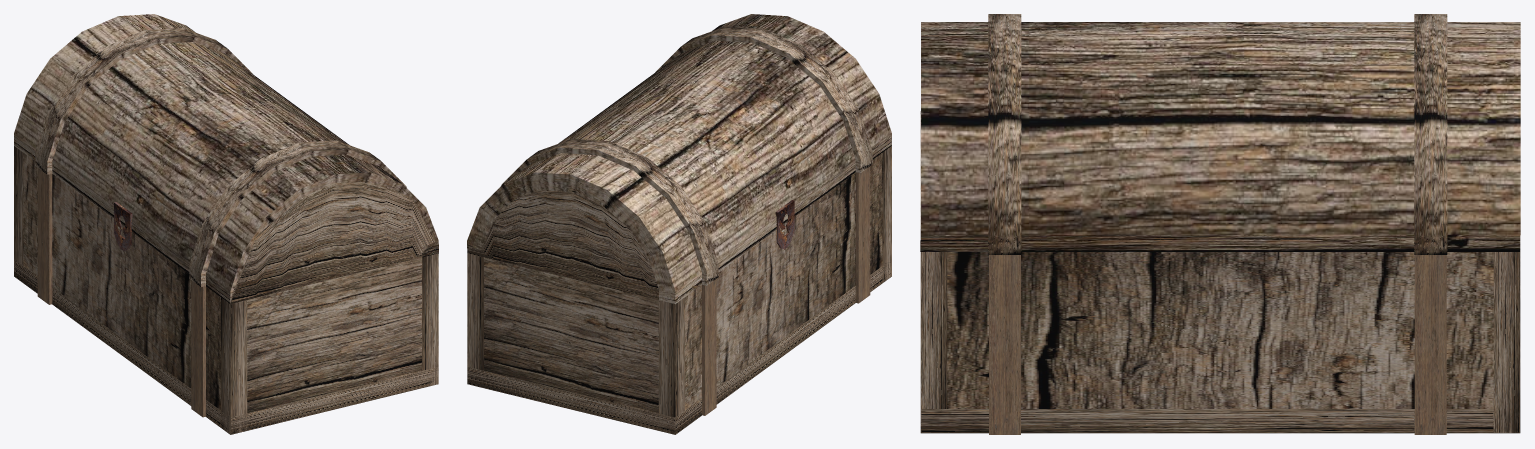
Rendered from Chest.FBX.
The picture shows the model from 3 angles, left to right: view 1: azimuth 30°, elevation 25°; view 2: azimuth 150°, elevation 25°; view 3: azimuth 270°, elevation 25°; orthographic projection. The views are drawn at different scales.
Parts seen in each view (by area): view 1: Tube001, Box001, Tube003, Tube002, Box003, Box002, Box004; view 2: Tube001, Box001, Tube003, Tube002, Box002, Box003, Box004; view 3: Tube001, Box001, Tube002, Tube003, Box003, Box002.
Boxes of the visible parts, x1,y1,x2,y2 form: Tube001: (14, 14, 438, 303); Box001: (14, 146, 438, 434); Tube003: (35, 28, 252, 174); Tube002: (189, 140, 406, 286); Box003: (37, 168, 52, 304); Box002: (191, 280, 205, 417); Box004: (114, 202, 132, 250); Tube001: (467, 14, 891, 303); Box001: (467, 146, 891, 434); Tube003: (501, 139, 718, 285); Tube002: (655, 26, 872, 172); Box002: (855, 166, 870, 303); Box003: (702, 279, 716, 415); Box004: (775, 200, 794, 249); Tube001: (920, 22, 1520, 251); Box001: (920, 111, 1520, 433); Tube002: (988, 14, 1021, 254); Tube003: (1414, 14, 1447, 254); Box003: (1414, 255, 1446, 434); Box002: (989, 255, 1020, 434).
Bounding box in the file's own units: 20.64 × 21.71 × 35.46.
3 materials, 3 textured.
